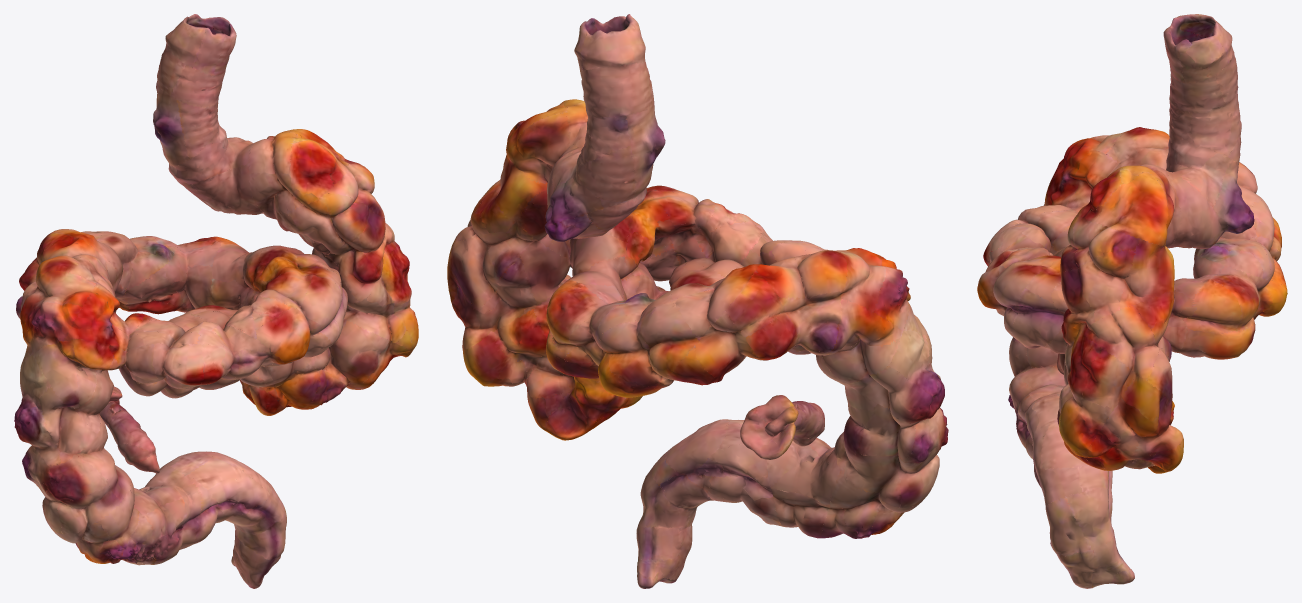
Rendered from SintomasCrohn.glb.
The picture shows the model from 3 angles, left to right: view 1: azimuth 30°, elevation 25°; view 2: azimuth 150°, elevation 25°; view 3: azimuth 270°, elevation 25°; orthographic projection. The views are drawn at different scales.
Visible parts, largest first — view 1: Sintomas; view 2: Sintomas; view 3: Sintomas.
Part boxes in pixels (bbox=[...]): Sintomas: bbox=[14, 14, 418, 588]; Sintomas: bbox=[447, 14, 948, 588]; Sintomas: bbox=[977, 14, 1287, 588].
Size of the model in its own units: 1.58 by 2 by 0.9878.
1 material, 1 textured.
